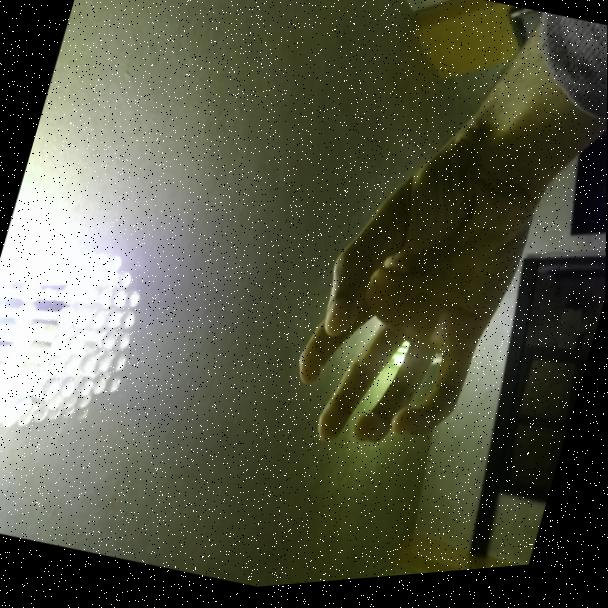five: (264, 117, 550, 504)
